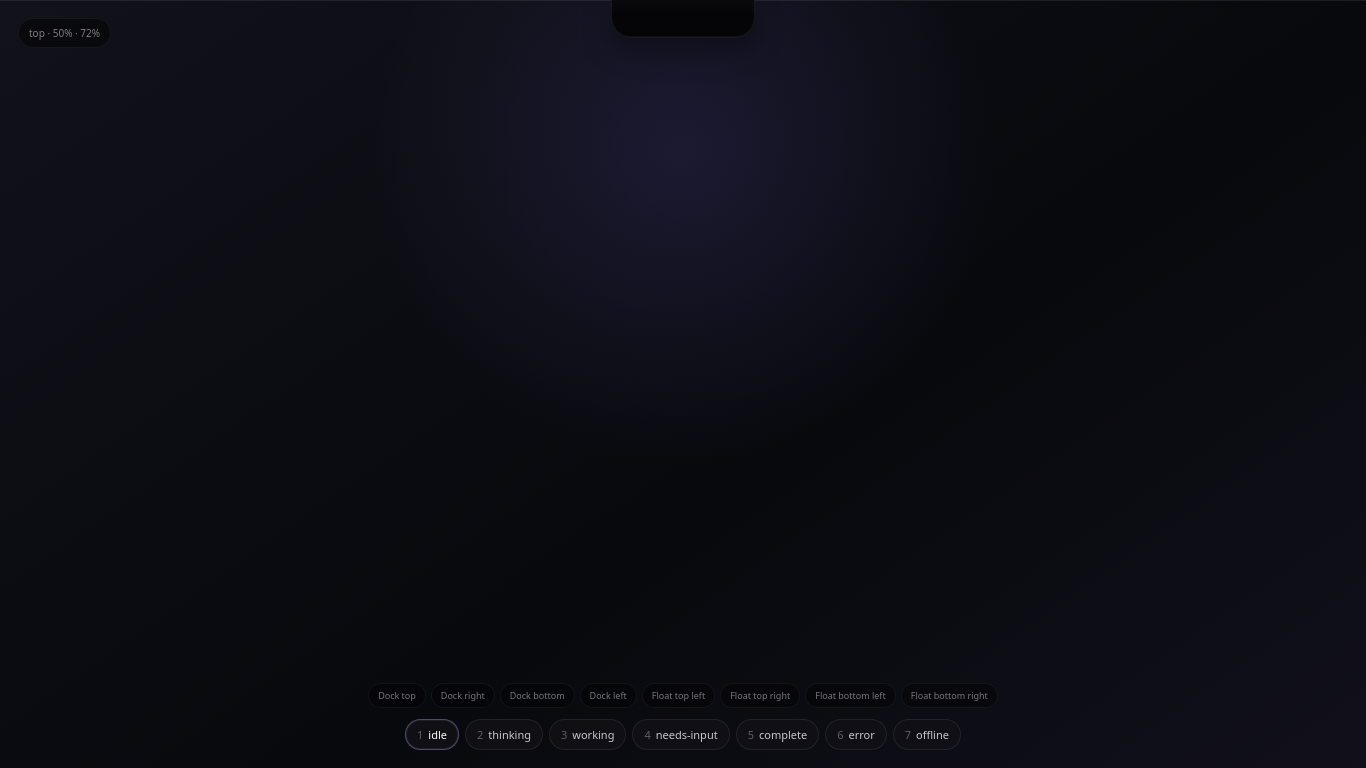
Test: PreviewApp › offers deterministic placement fixtures for visual review
This screenshot has width=1366, height=768.
Click the button "Dock right": (463, 696) [431,683,495,708]
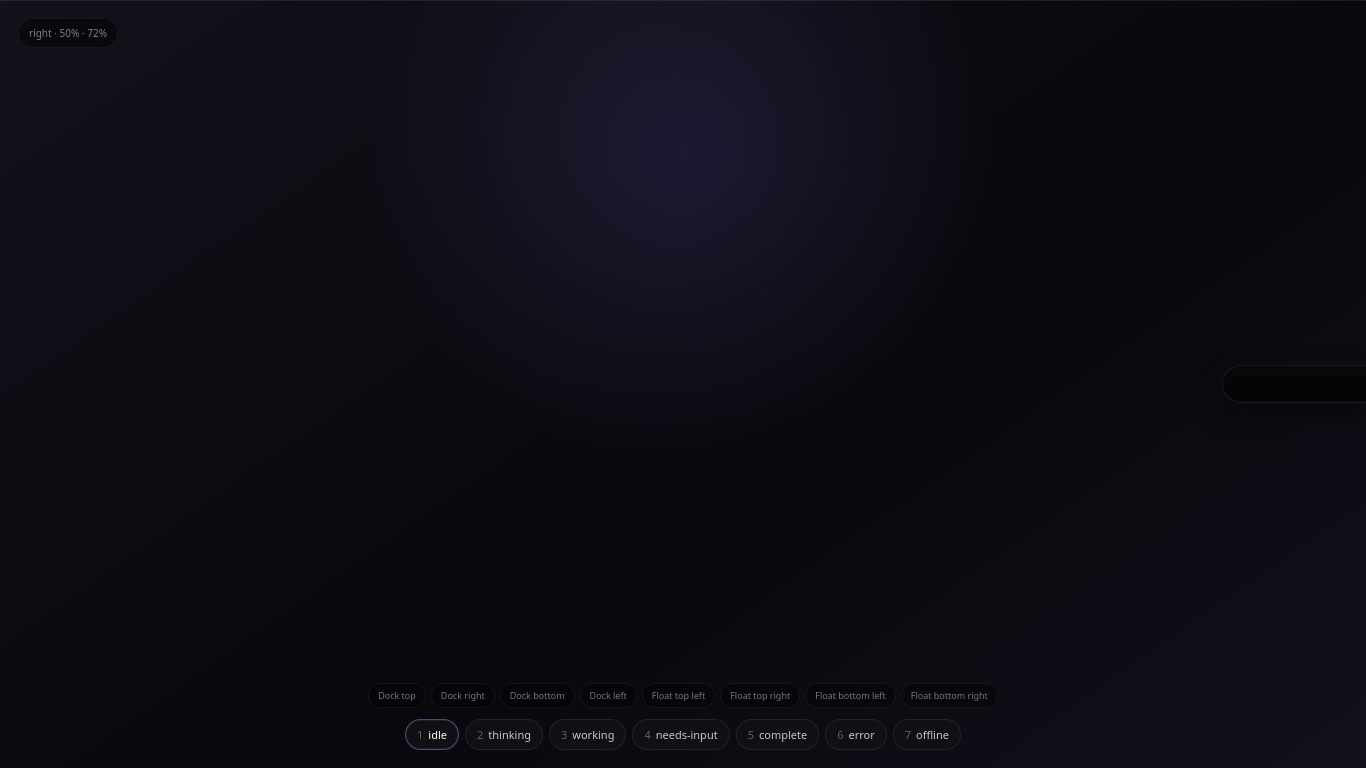
Result: the text "right · 50% · 72%" is shown at [18,18,118,48]
Click the button "Float bottom right": (949, 696) [901,683,998,708]
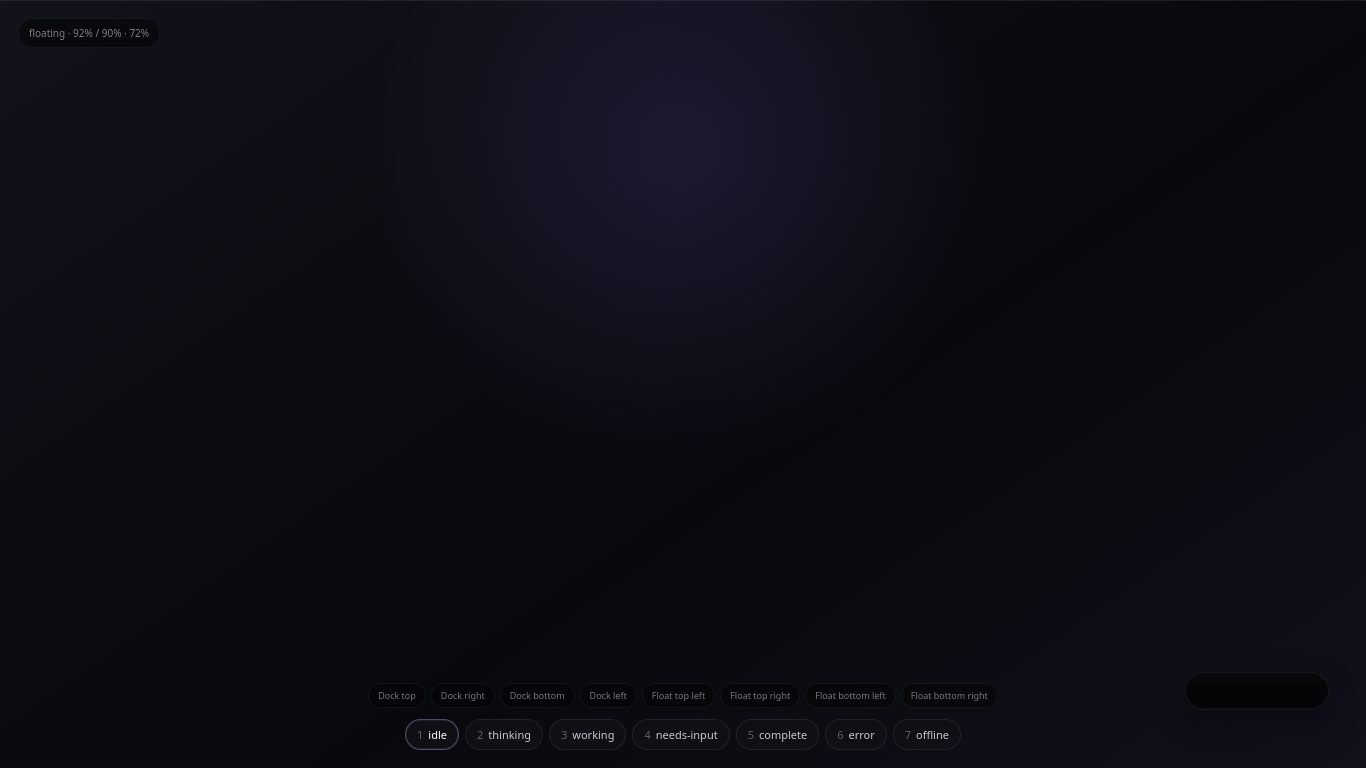
Result: the text "floating · 92% / 90% · 72%" is shown at [18,18,160,48]
